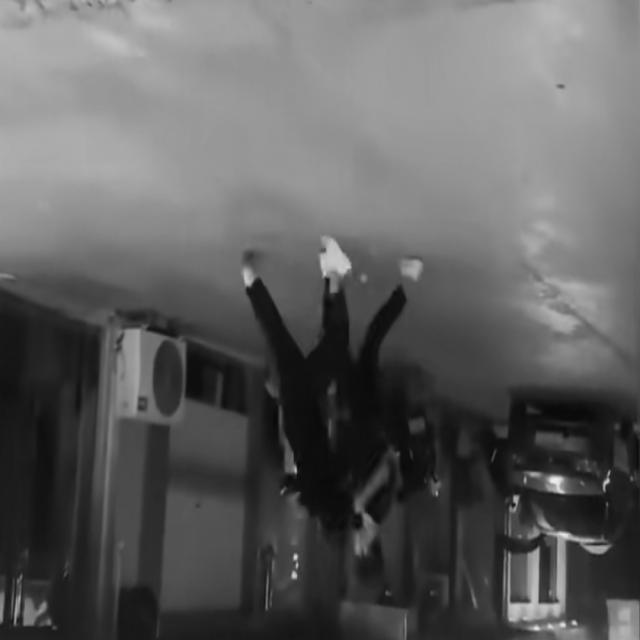fight: (238, 230, 393, 583)
